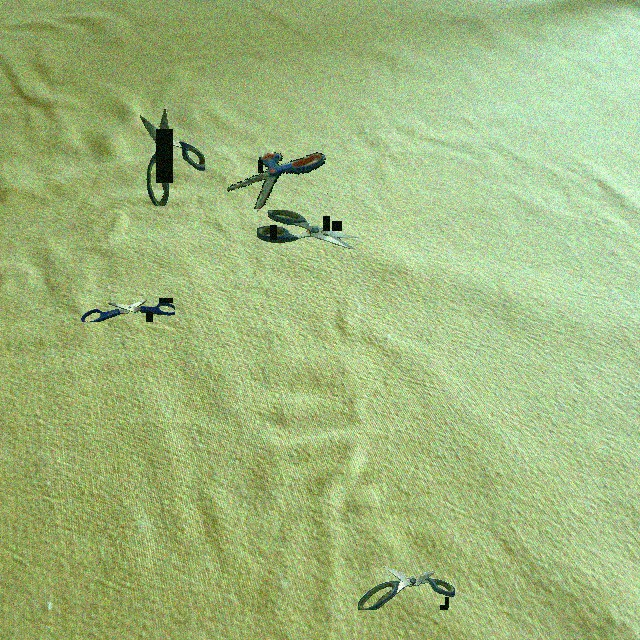scissors: (140, 108, 205, 206), (227, 152, 328, 209), (358, 566, 455, 610), (257, 210, 359, 249), (81, 298, 175, 322)
